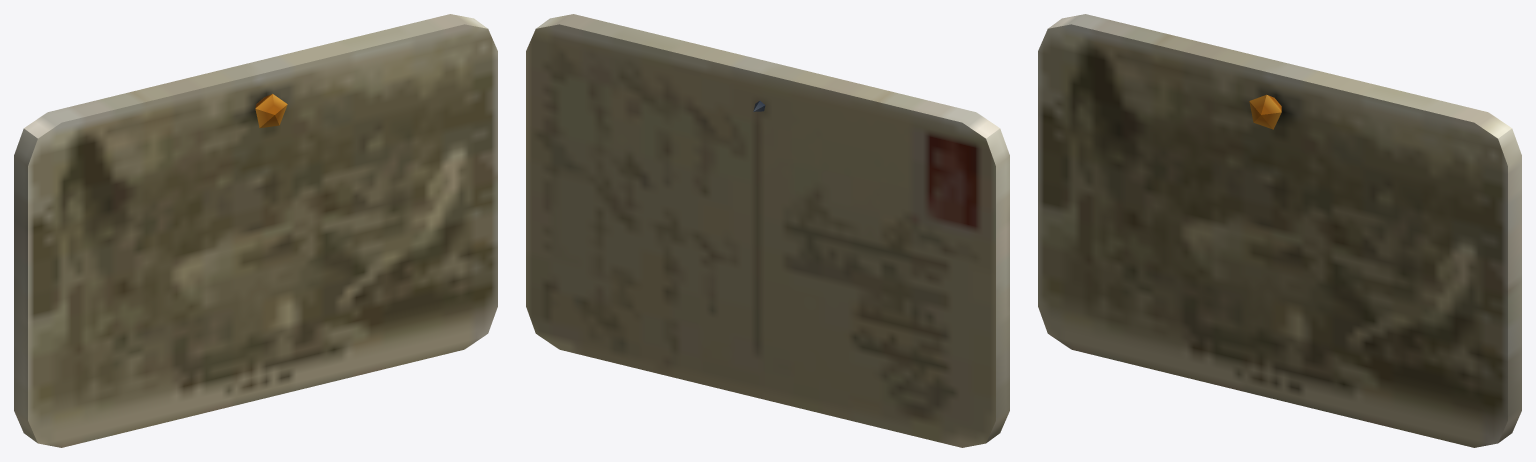
File: postal2.4.fbx
The picture shows the model from 3 angles, left to right: view 1: azimuth 30°, elevation 25°; view 2: azimuth 150°, elevation 25°; view 3: azimuth 330°, elevation 25°; orthographic projection.
Parts seen in each view (by area): view 1: s4studio_mesh_0; view 2: s4studio_mesh_0; view 3: s4studio_mesh_0.
Boxes of the visible parts, box(x1,y1,x2,y2) form: s4studio_mesh_0: box(14, 14, 497, 447); s4studio_mesh_0: box(526, 14, 1009, 447); s4studio_mesh_0: box(1038, 14, 1521, 447).
Size of the model in its own units: 24.03 by 15.9 by 2.99.
Materials: 1 (1 with a texture image).
